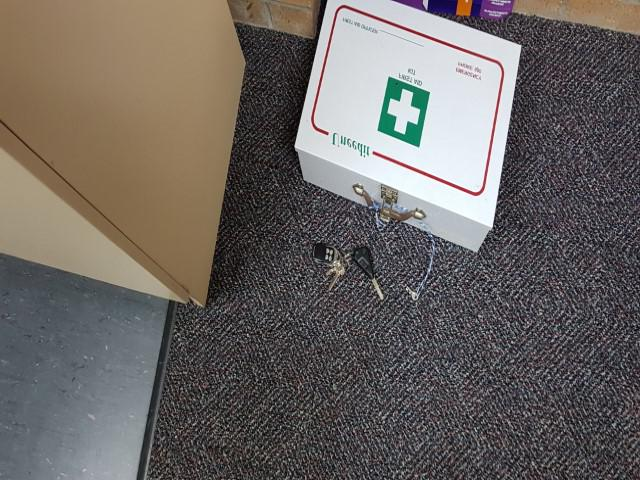key: (354, 246, 385, 300)
